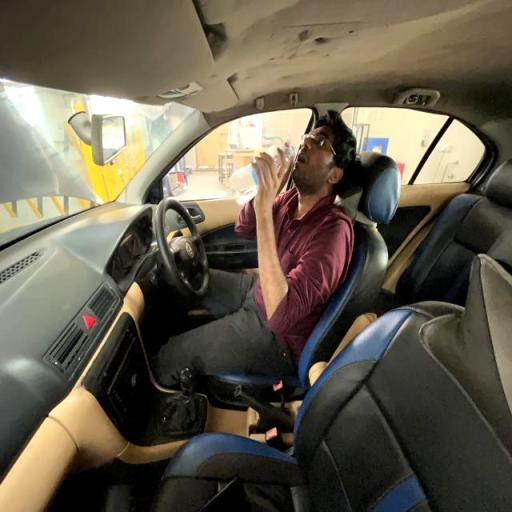Drinking: (211, 109, 361, 350)
